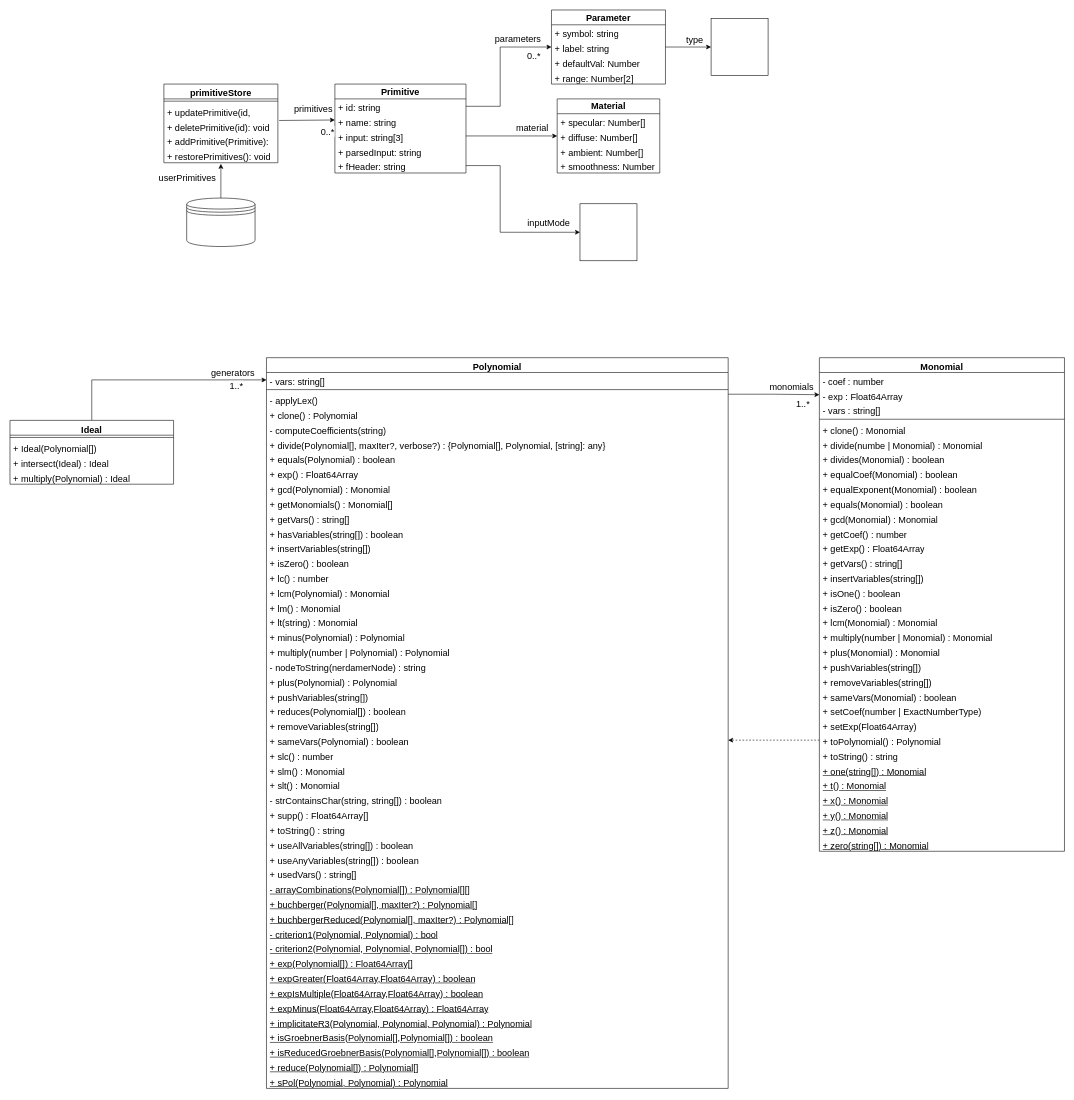
This 1074x1100 diagram has some shape labels left out. Each missing label, with the centre of its shape:
"<<enum>> InputMode SDF Implicit Parametric" goes at [608,232].
"<<enum>> InputType Range Value" goes at [739,47].
"localStorage" goes at [220,222].
